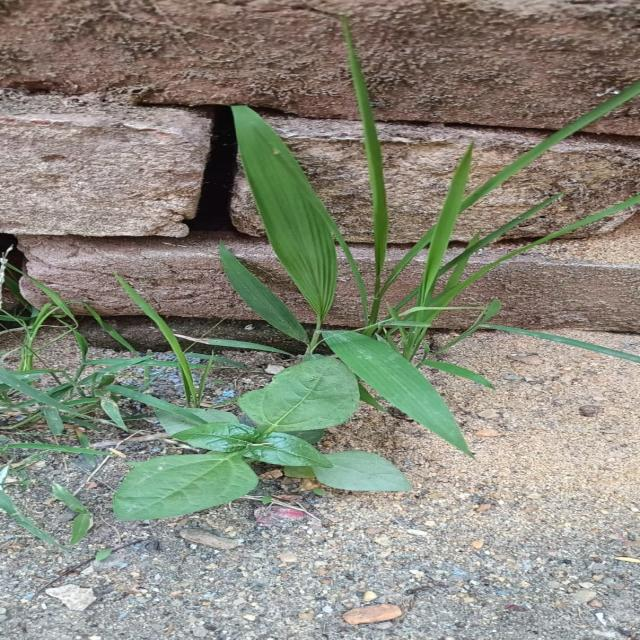plant: (111, 36, 638, 521), (450, 302, 638, 362)
